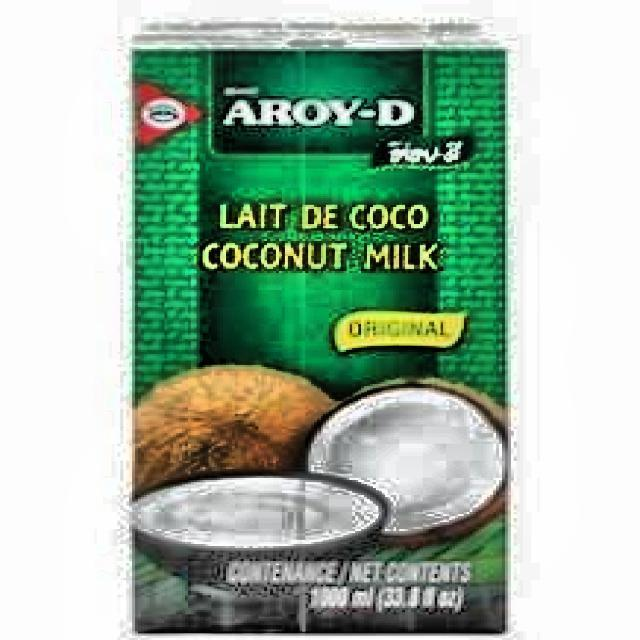cardboard: (126, 24, 511, 634)
